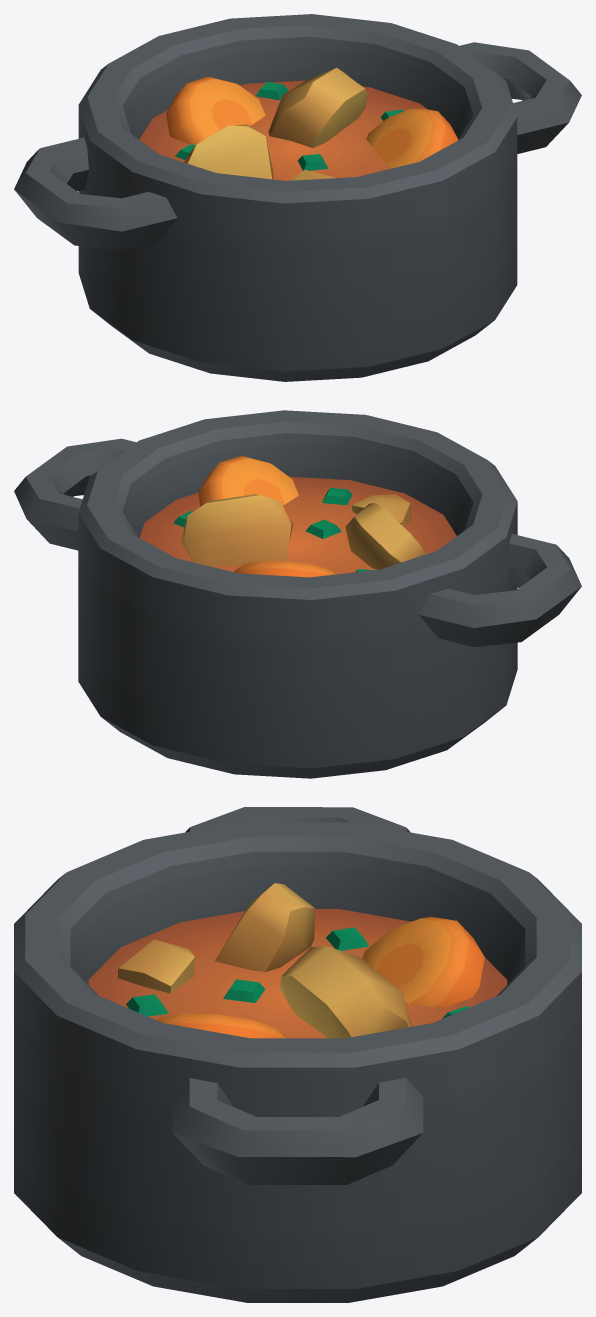
File: kkr.pot_b_stew.glb
3 views of the same model, one above another, from view 1: azimuth 30°, elevation 25°; view 2: azimuth 150°, elevation 25°; view 3: azimuth 270°, elevation 25° (orthographic). The views are drawn at different scales.
Parts seen in each view (by area): view 1: pot_B_stew; view 2: pot_B_stew; view 3: pot_B_stew.
Part boxes in pixels (x1,y1,x2,y2): pot_B_stew: (14, 14, 581, 381); pot_B_stew: (14, 410, 581, 778); pot_B_stew: (14, 807, 581, 1302).
Size of the model in its own units: 0.3859 by 0.1422 by 0.2757.
1 material, 1 textured.
